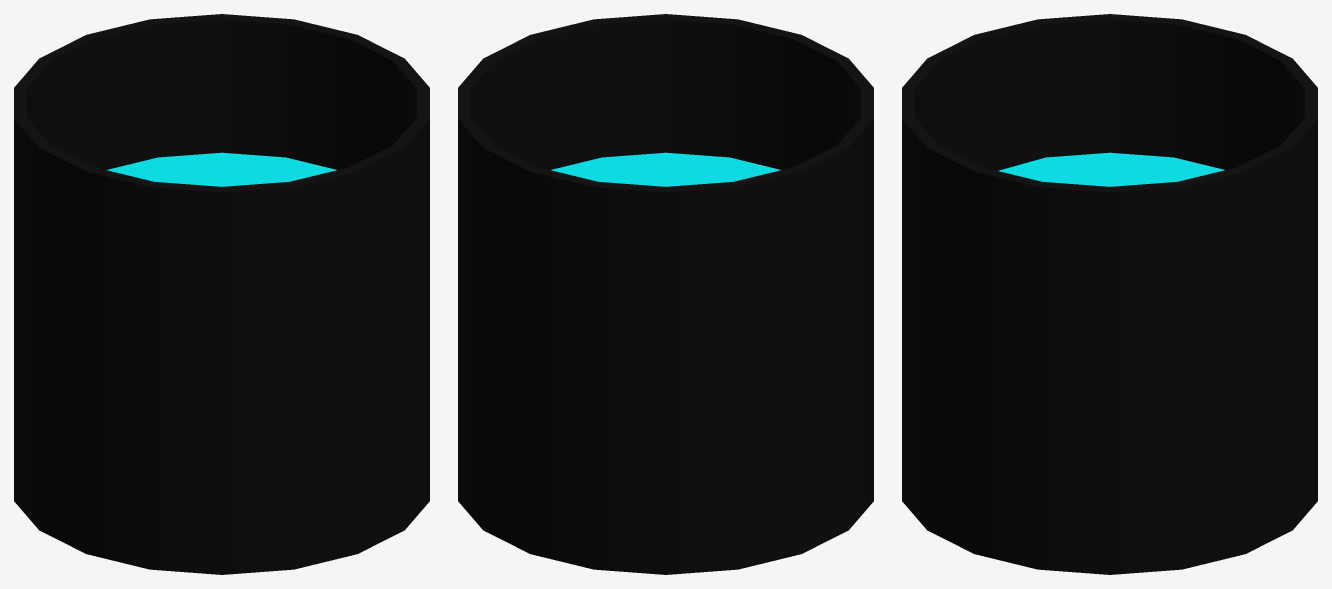
File: stakan.fbx
The picture shows the model from 3 angles, left to right: view 1: azimuth 30°, elevation 25°; view 2: azimuth 150°, elevation 25°; view 3: azimuth 270°, elevation 25°; orthographic projection.
Visible parts, largest first — view 1: Stakan; view 2: Stakan; view 3: Stakan.
Boxes of the visible parts, x1,y1,x2,y2 form: Stakan: (14, 14, 429, 574); Stakan: (458, 14, 873, 574); Stakan: (902, 14, 1317, 574).
Bounding box in the file's own units: 2 × 2 × 1.97.
